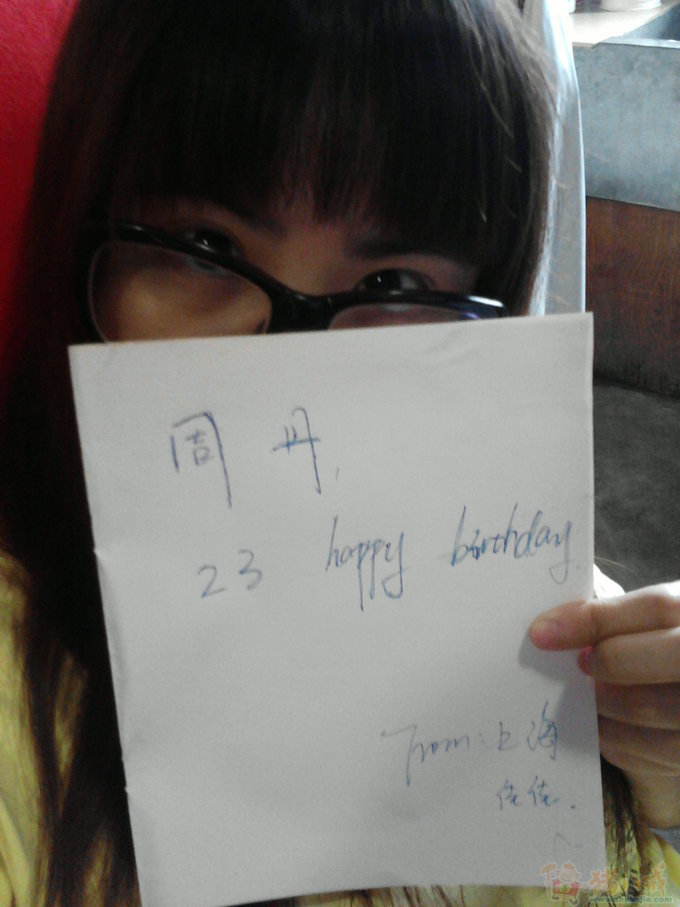face: (104, 53, 497, 693)
